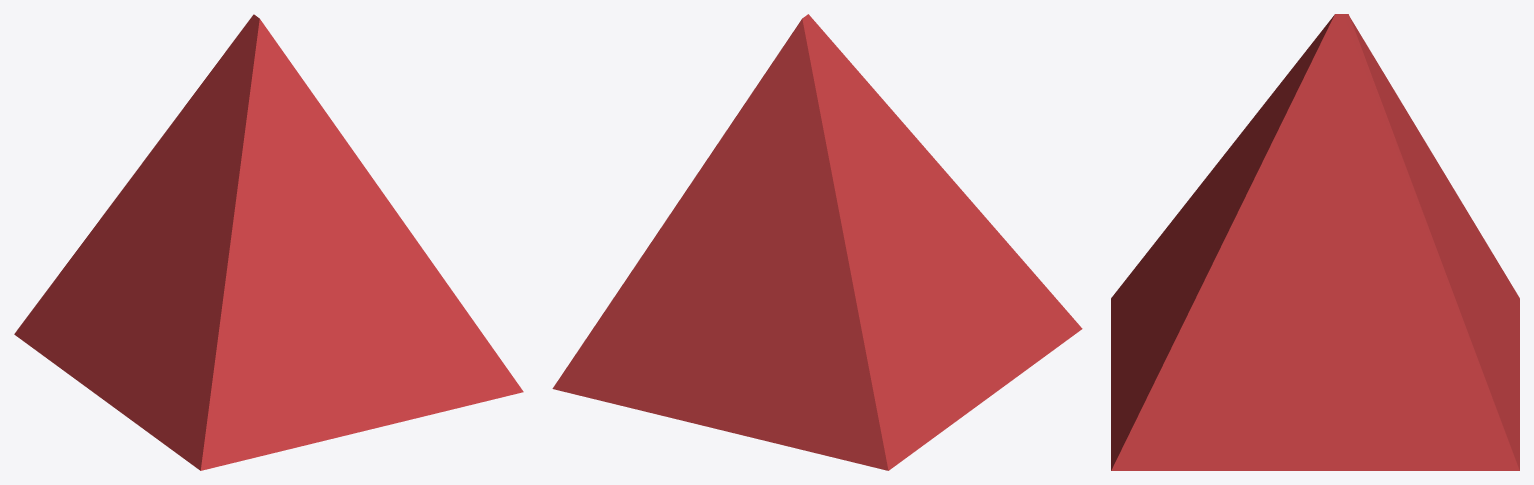
3 views of the same model, side by side, from view 1: azimuth 30°, elevation 25°; view 2: azimuth 150°, elevation 25°; view 3: azimuth 270°, elevation 25° (orthographic). The views are drawn at different scales.
Parts seen in each view (by area): view 1: Cube; view 2: Cube; view 3: Cube.
Part boxes in pixels (x1=…): Cube: x1=14, y1=14, x2=523, y2=470; Cube: x1=552, y1=14, x2=1082, y2=470; Cube: x1=1111, y1=14, x2=1519, y2=470.
Size of what is drawn, in the model's own units: 2 by 2 by 2.
